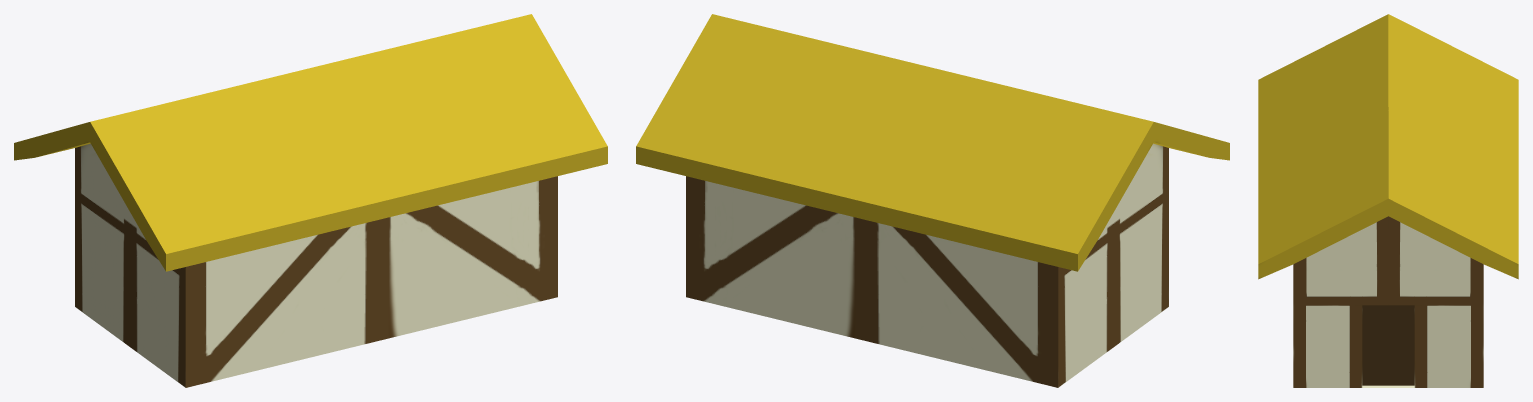
The model's file is FarmFinal.fbx.
3 views of the same model, side by side, from view 1: azimuth 30°, elevation 25°; view 2: azimuth 150°, elevation 25°; view 3: azimuth 270°, elevation 25° (orthographic). The views are drawn at different scales.
Visible parts, largest first — view 1: FarmFinal; view 2: FarmFinal; view 3: FarmFinal.
Part boxes in pixels (bbox=[...]): FarmFinal: bbox=[14, 14, 607, 387]; FarmFinal: bbox=[636, 14, 1229, 387]; FarmFinal: bbox=[1258, 14, 1518, 387].
Size of the model in its own units: 583 by 347 by 297.
